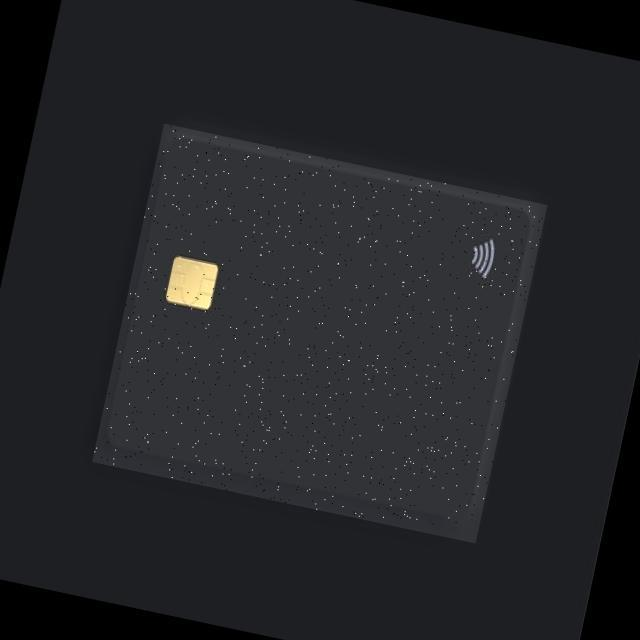payment_card: (90, 121, 549, 544)
